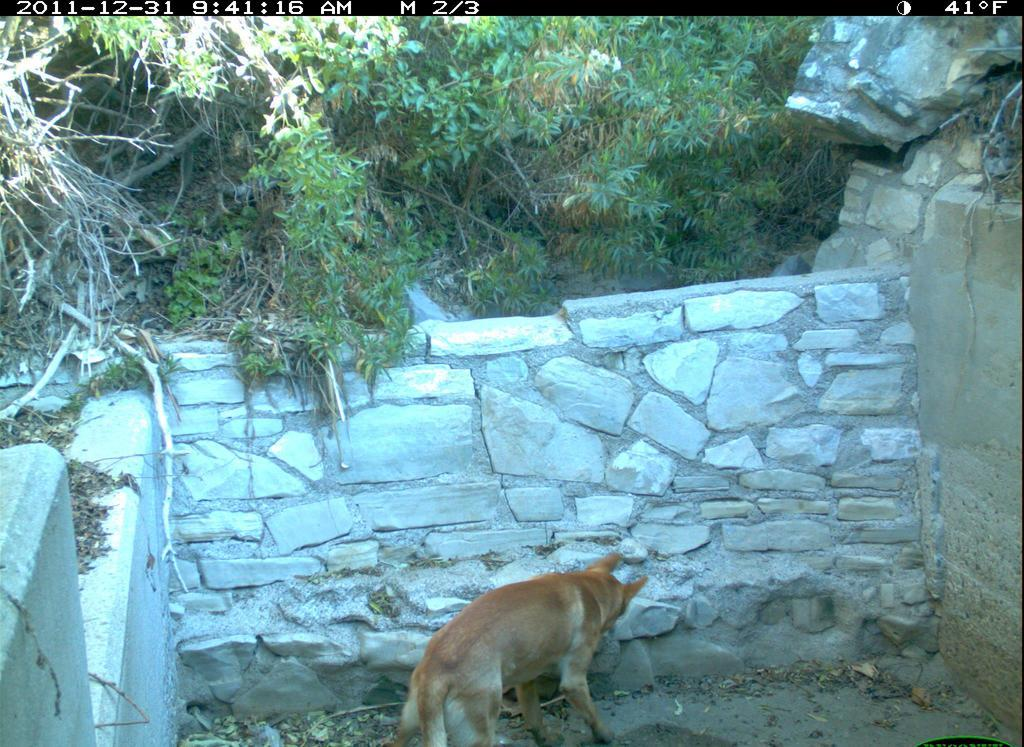dog: (399, 545, 661, 742)
